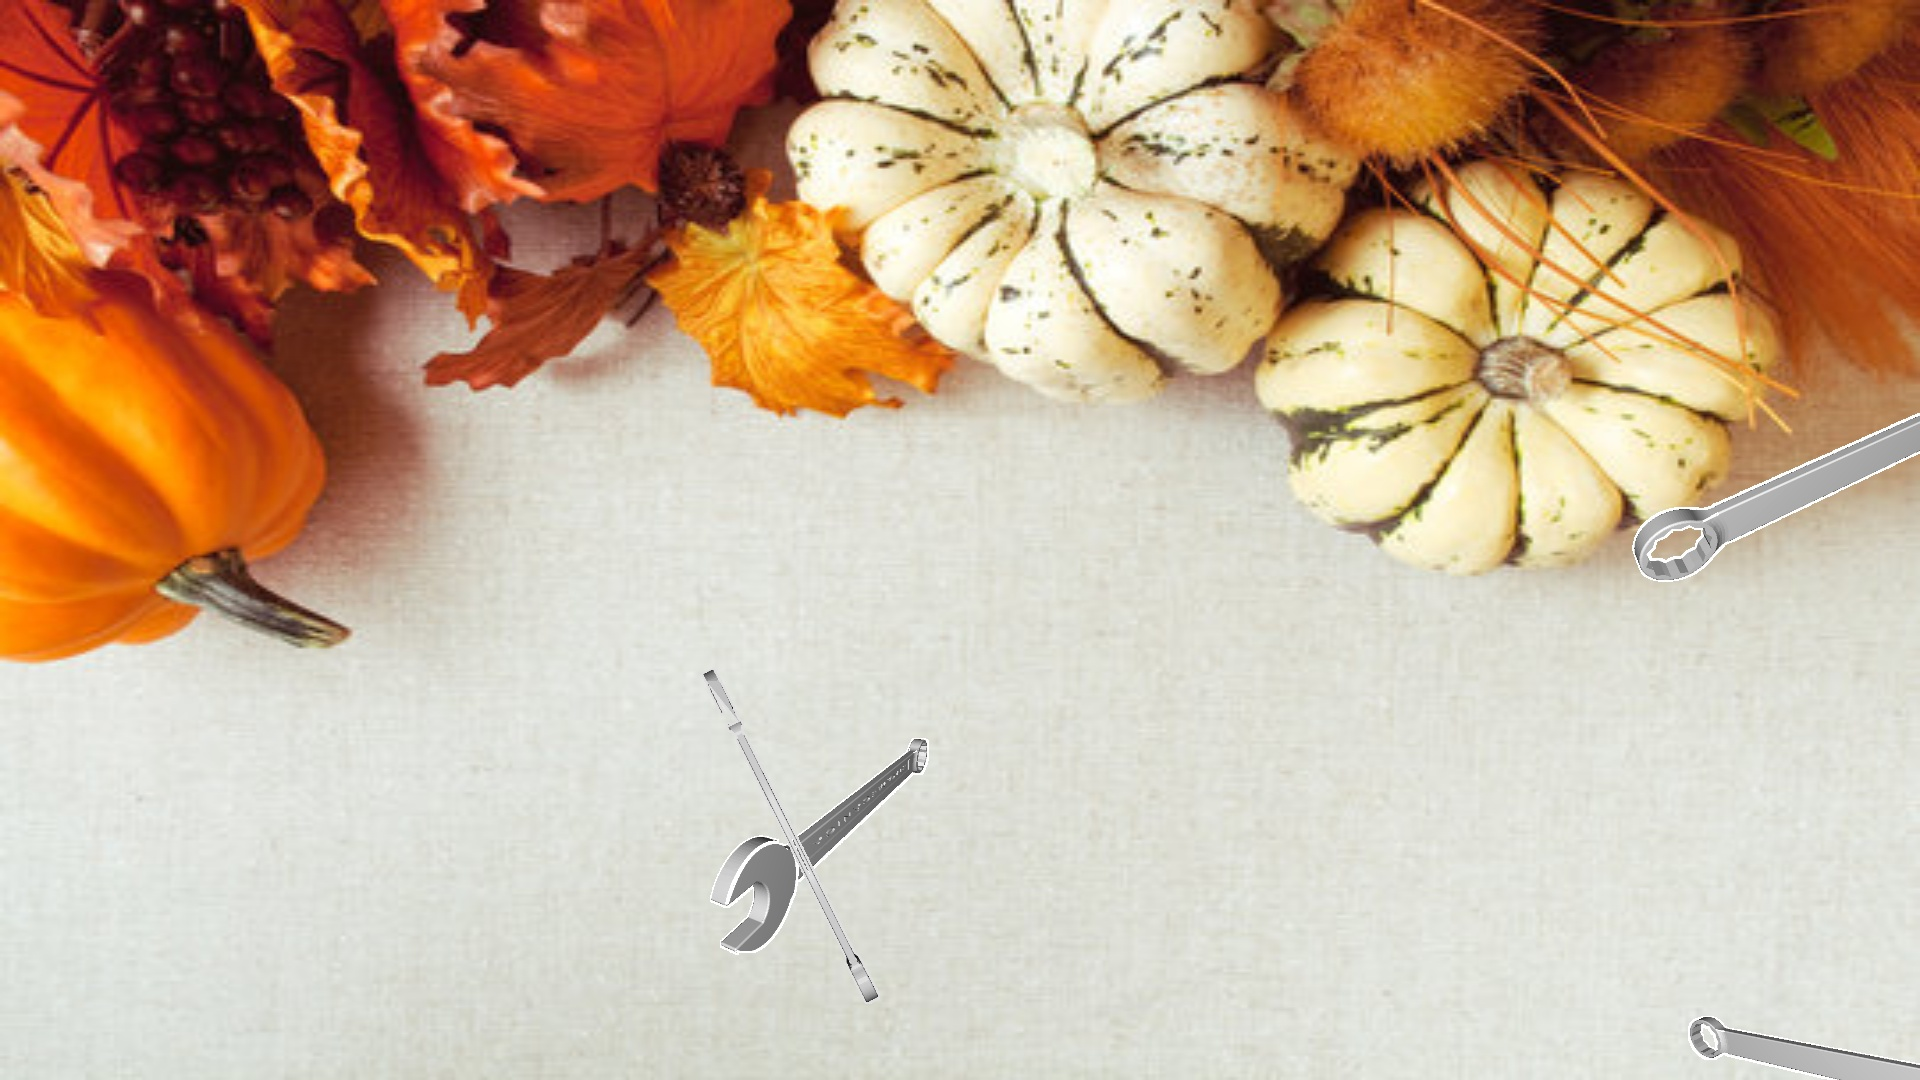Mixed Key: (702, 669, 880, 1004), (1633, 413, 1919, 582), (709, 738, 928, 953), (1688, 1015, 1919, 1079)
